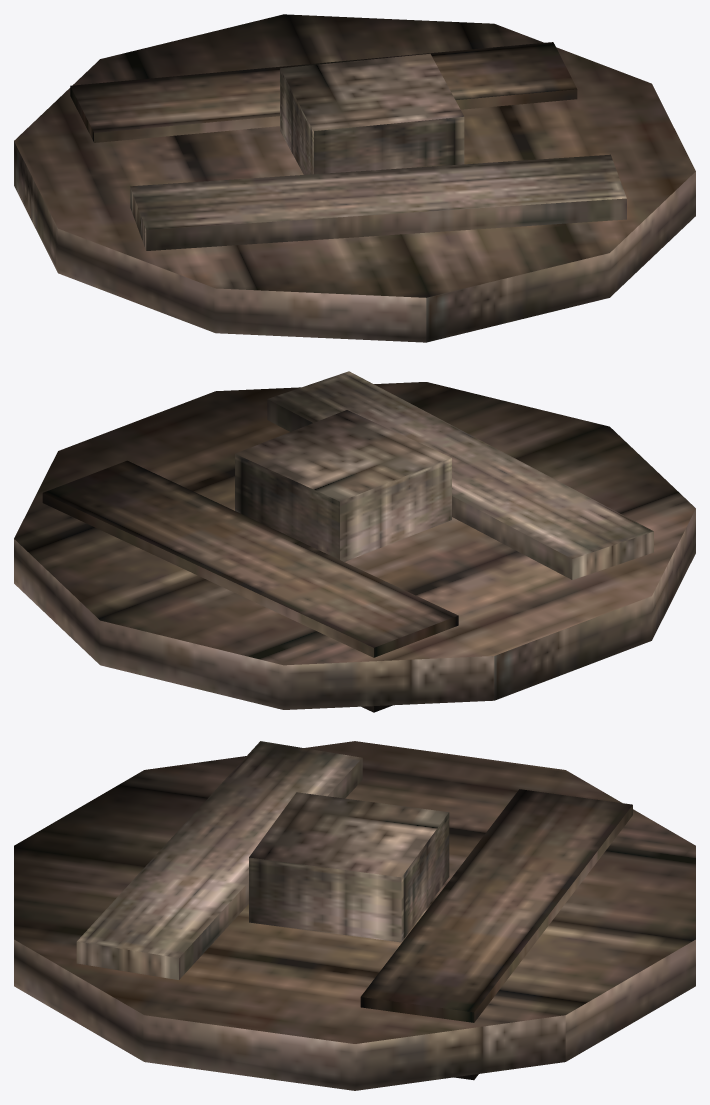
The model's file is stst45.dae.
The picture shows the model from 3 angles, top to bottom: view 1: azimuth 30°, elevation 25°; view 2: azimuth 150°, elevation 25°; view 3: azimuth 270°, elevation 25°; orthographic projection. The views are drawn at different scales.
Parts seen in each view (by area): view 1: wheel; view 2: wheel; view 3: wheel.
Part boxes in pixels (x1,y1,x2,y2): wheel: (14, 14, 695, 342); wheel: (14, 371, 695, 712); wheel: (14, 741, 695, 1090).
Size of the model in its own units: 0.5829 by 0.5543 by 0.1587.
Materials: 1 (1 with a texture image).
